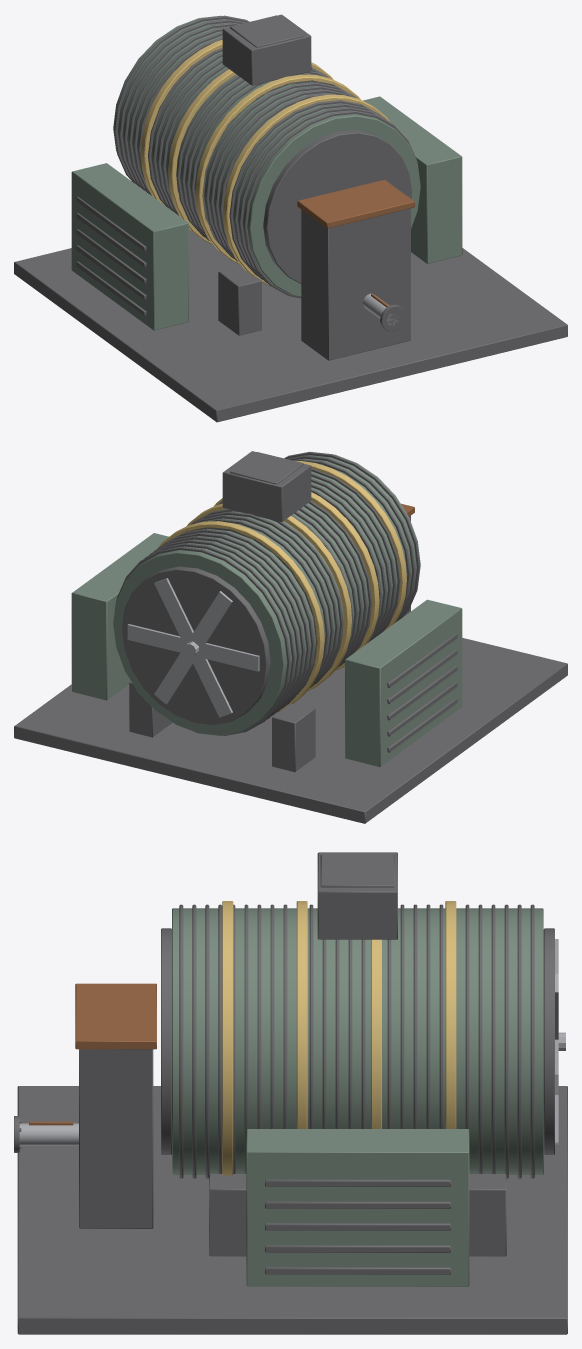
Rendered from feElectricMotor3.fbx.
3 views of the same model, one above another, from view 1: azimuth 30°, elevation 25°; view 2: azimuth 150°, elevation 25°; view 3: azimuth 270°, elevation 25° (orthographic). The views are drawn at different scales.
Parts seen in each view (by area): view 1: feElectricMotor3_Base, FeSpin_Motor3Out; view 2: feElectricMotor3_Base, FeSpin_Motor3Fan; view 3: feElectricMotor3_Base, FeSpin_Motor3Out, FeSpin_Motor3Fan.
Part boxes in pixels (left/top/right/bottom): feElectricMotor3_Base: left=14, top=14, right=567, bottom=422; FeSpin_Motor3Out: left=363, top=293, right=405, bottom=331; feElectricMotor3_Base: left=14, top=451, right=567, bottom=823; FeSpin_Motor3Fan: left=127, top=578, right=259, bottom=717; feElectricMotor3_Base: left=17, top=852, right=567, bottom=1334; FeSpin_Motor3Out: left=14, top=1116, right=78, bottom=1152; FeSpin_Motor3Fan: left=555, top=939, right=565, bottom=1144.
Size of the model in its own units: 2.96 by 2.07 by 2.98.
